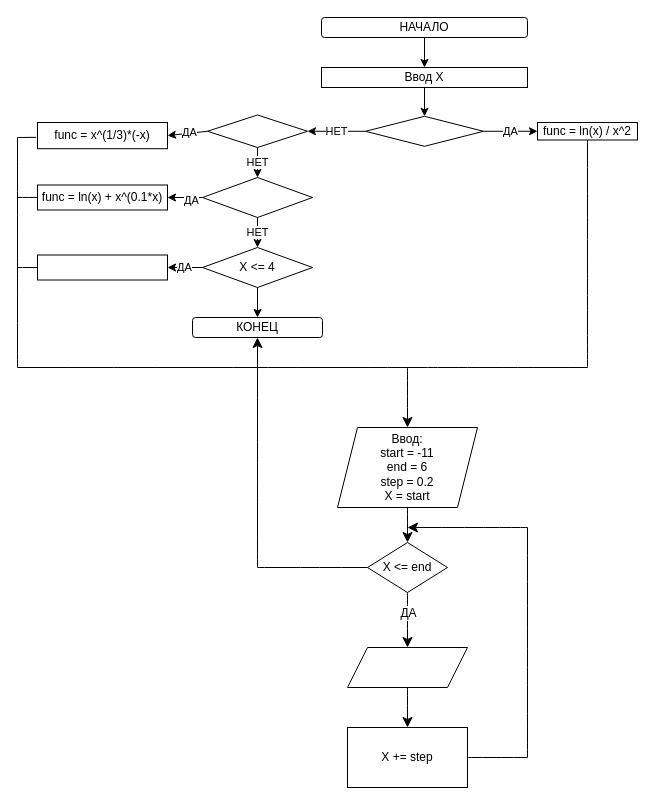
Some shapes in this 655 by 805 pixel diagram are drawn without their labels. The shapes that lost their labels are listed below. From the top down, each one's centre as x and y in pixels, then its label:
At (x=257, y=131): "-9 <= X < -2".
At (x=424, y=130): "X < -9".
At (x=257, y=197): "-2 <= X < 4".
At (x=102, y=267): "func = ln(x) / sqr(x)".
At (x=407, y=667): "Вывод: func(X)".
